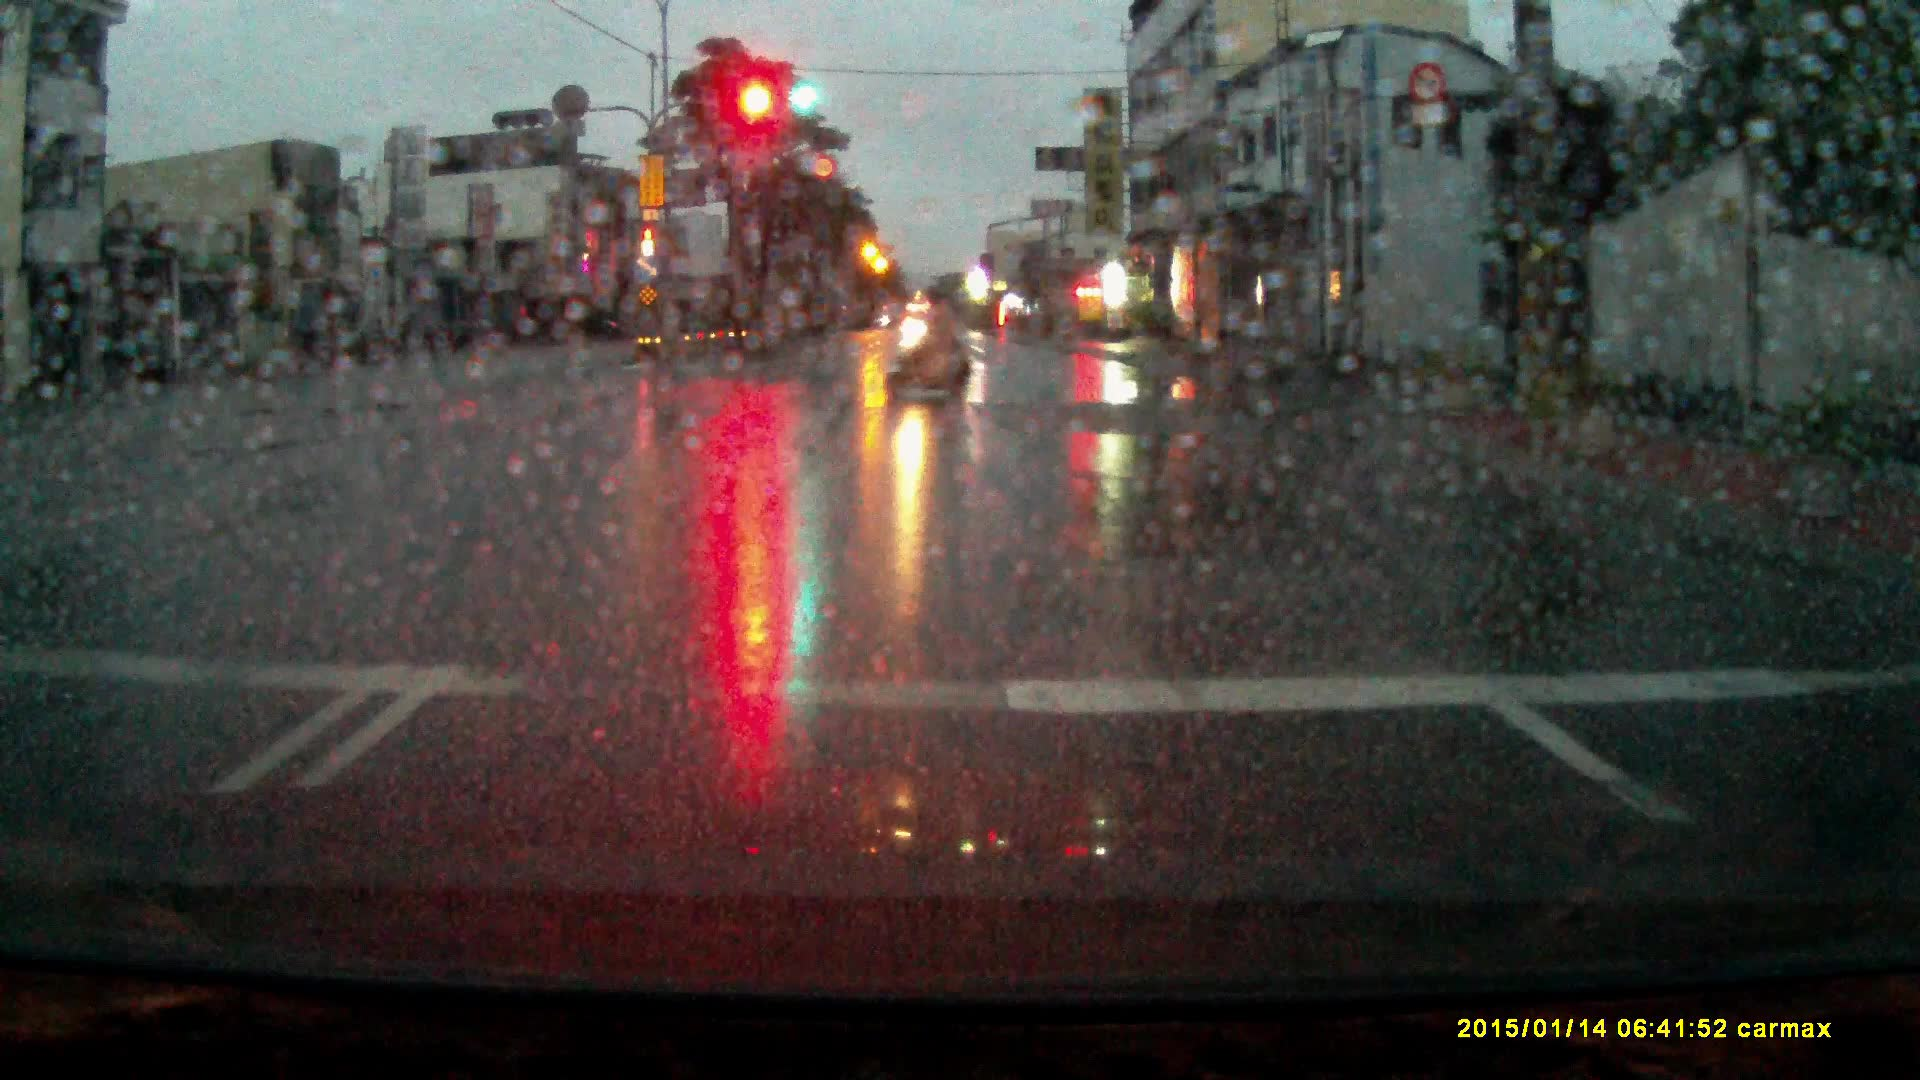rider: (887, 276, 971, 408)
